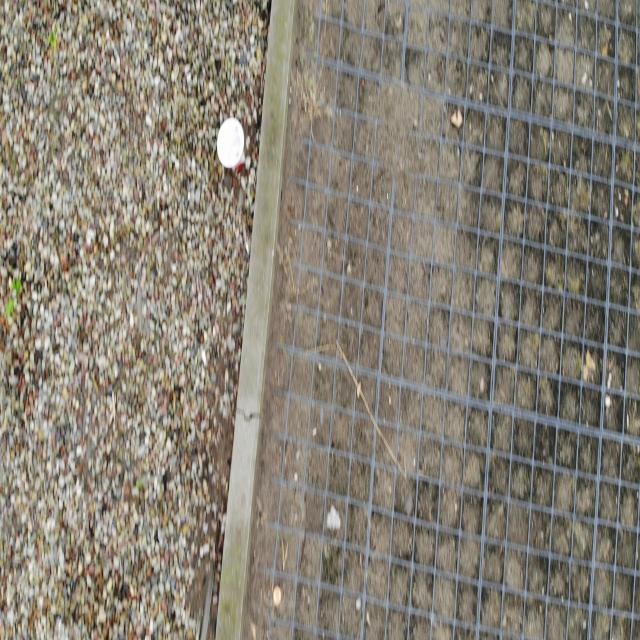rubbish: (216, 118, 243, 167), (273, 586, 281, 605)
